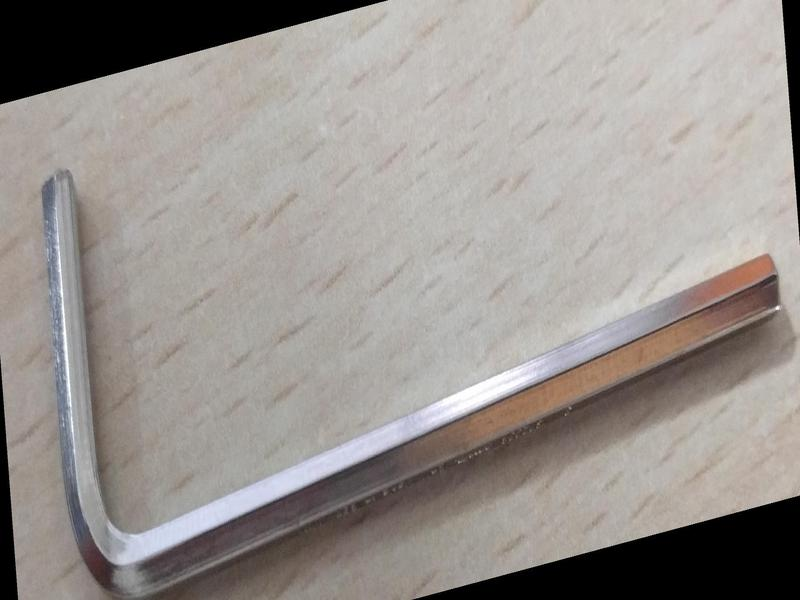turner: (26, 162, 779, 600)
